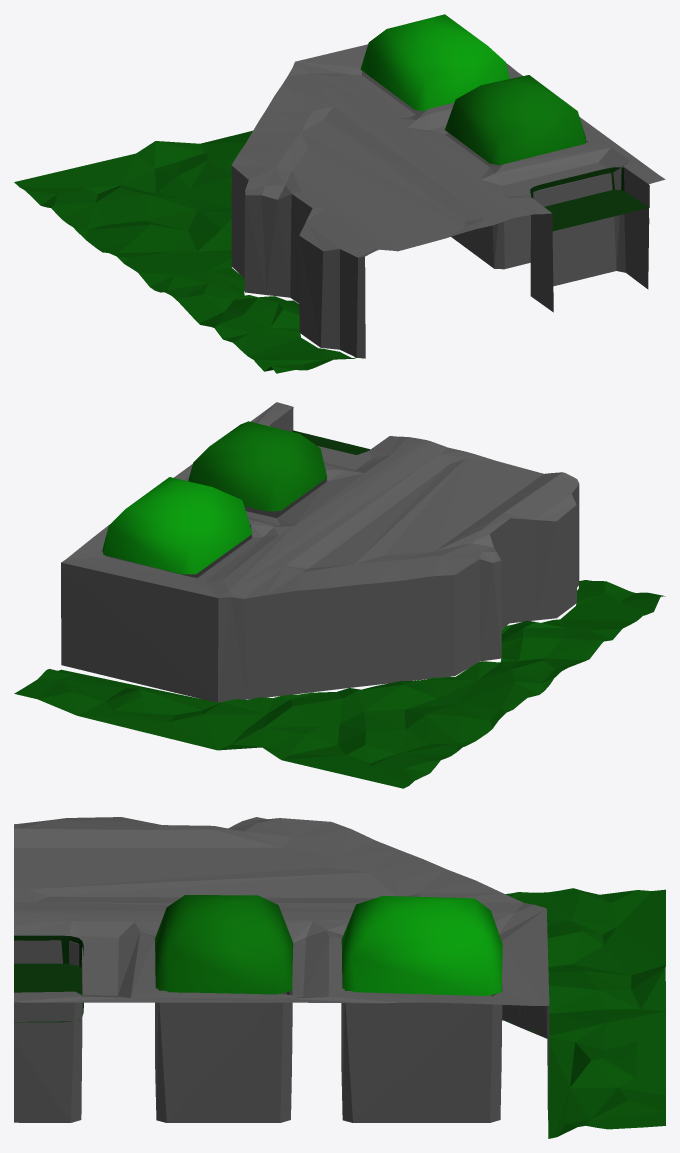
Rendered from newshj-5.glb.
3 views of the same model, one above another, from view 1: azimuth 30°, elevation 25°; view 2: azimuth 150°, elevation 25°; view 3: azimuth 270°, elevation 25° (orthographic). The views are drawn at different scales.
Parts seen in each view (by area): view 1: newshj-5; view 2: newshj-5; view 3: newshj-5.
Boxes of the visible parts, x1,y1,x2,y2 form: newshj-5: (14, 14, 665, 373); newshj-5: (14, 402, 665, 788); newshj-5: (14, 817, 665, 1138).
Size of the model in its own units: 2 by 0.7836 by 2.33.
